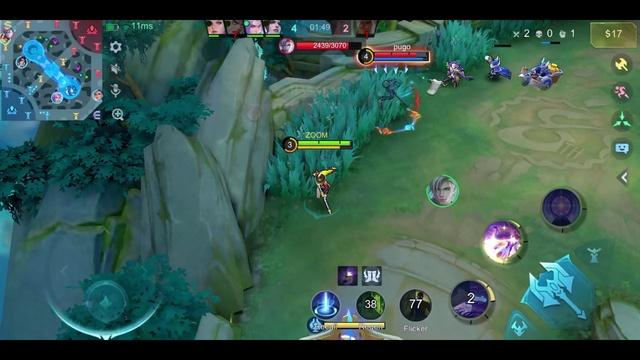Aamon: (380, 78, 408, 108)
Adc_Aliado: (1, 37, 12, 42)
Arbusto: (264, 70, 412, 197), (428, 21, 496, 69), (480, 20, 551, 39)
EXP_Lane: (91, 108, 104, 122)
Energia: (299, 145, 353, 150)
Esbirro_Aliado: (518, 58, 562, 89), (485, 55, 509, 78)
Exp_Aliado: (91, 89, 105, 103)
Gold_Lane: (2, 20, 13, 32)
HP_Enemigo: (374, 52, 429, 56)
HP_Heroe_Principal: (299, 141, 352, 145)
Jungla_Aliado: (51, 91, 63, 104)
Jungla_Enemigo: (1, 28, 14, 37)
Lesly: (313, 167, 336, 213)
Mana: (375, 57, 430, 61)
Mid_Aliado: (15, 56, 30, 67)
Minimapa: (2, 20, 103, 122)
Skill2: (482, 221, 525, 263)
Torre_Aliada: (300, 322, 401, 339)
